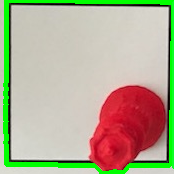Red Queen: (84, 82, 169, 174)
